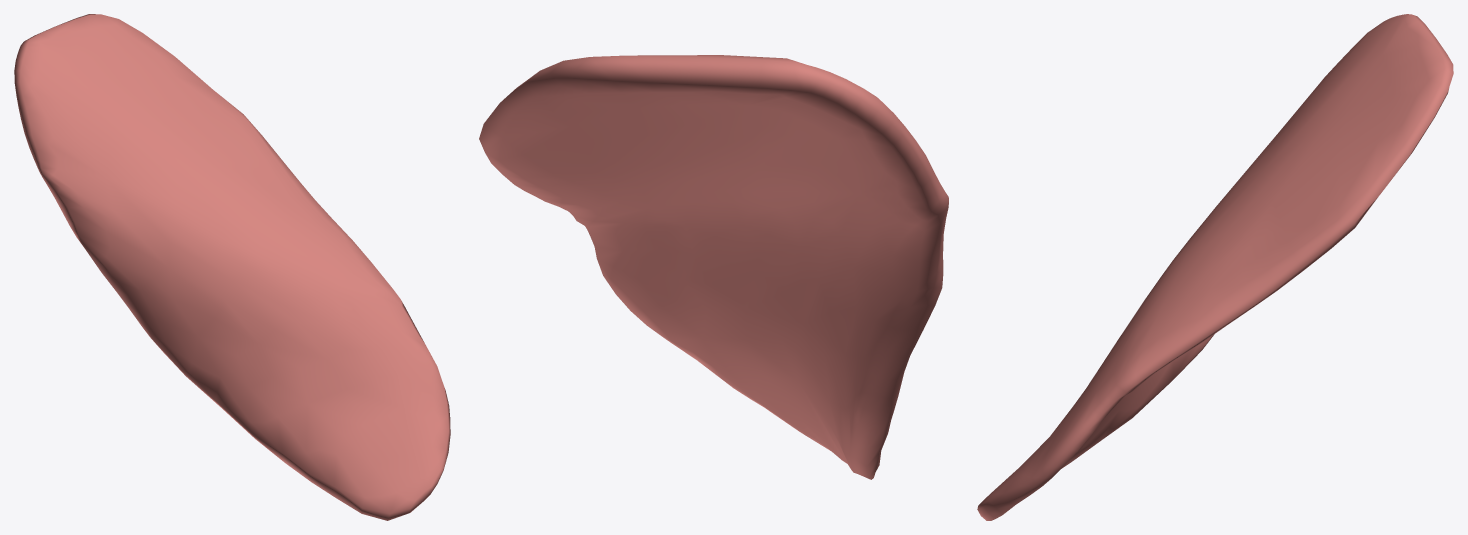
3 renders of one model, left to right at view 1: azimuth 30°, elevation 25°; view 2: azimuth 150°, elevation 25°; view 3: azimuth 270°, elevation 25°, orthographic. The views are drawn at different scales.
Visible parts, largest first — view 1: ZA_7437eb97330eecec; view 2: ZA_7437eb97330eecec; view 3: ZA_7437eb97330eecec.
Part boxes in pixels (x1,y1,x2,y2): ZA_7437eb97330eecec: [14, 14, 450, 520]; ZA_7437eb97330eecec: [479, 55, 948, 479]; ZA_7437eb97330eecec: [977, 14, 1453, 520].
Bounding box in the file's own units: 0.00838 × 0.0106 × 0.0111.
